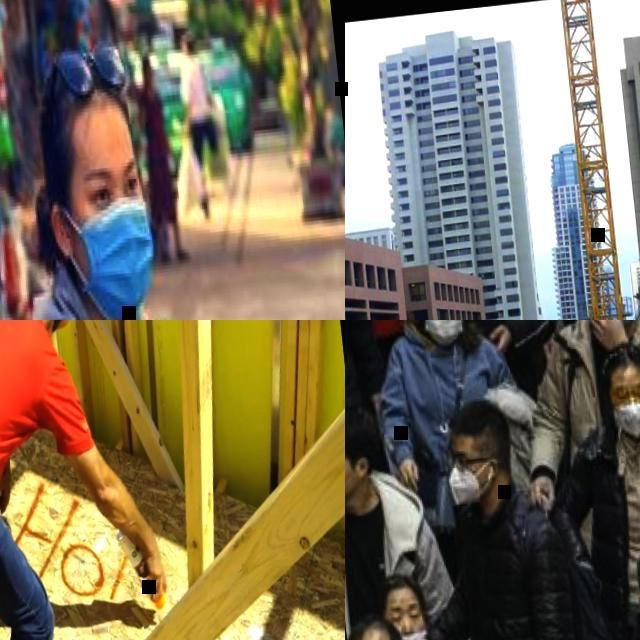Mask: (74, 197, 161, 320), (446, 465, 486, 513), (421, 320, 467, 347), (612, 398, 640, 441), (583, 320, 634, 332), (398, 631, 432, 640)
NO-Hardhat: (31, 55, 133, 162), (445, 395, 511, 444), (345, 397, 380, 456), (597, 338, 640, 382), (345, 609, 398, 640), (380, 570, 415, 605), (184, 35, 196, 50), (140, 55, 151, 71)
NO-Mask: (345, 471, 363, 504)
NO-Safety Vest: (457, 503, 564, 640), (0, 320, 64, 508), (345, 490, 423, 640), (417, 320, 532, 377), (139, 87, 169, 165), (181, 56, 211, 119)
Person: (0, 49, 234, 320), (0, 320, 191, 640), (402, 383, 592, 640), (364, 320, 533, 532), (345, 391, 472, 640), (540, 333, 640, 640), (518, 320, 640, 555), (394, 320, 561, 405), (133, 53, 191, 268), (370, 560, 505, 640), (174, 34, 226, 231), (345, 599, 502, 640), (345, 320, 385, 412), (345, 329, 351, 518)
